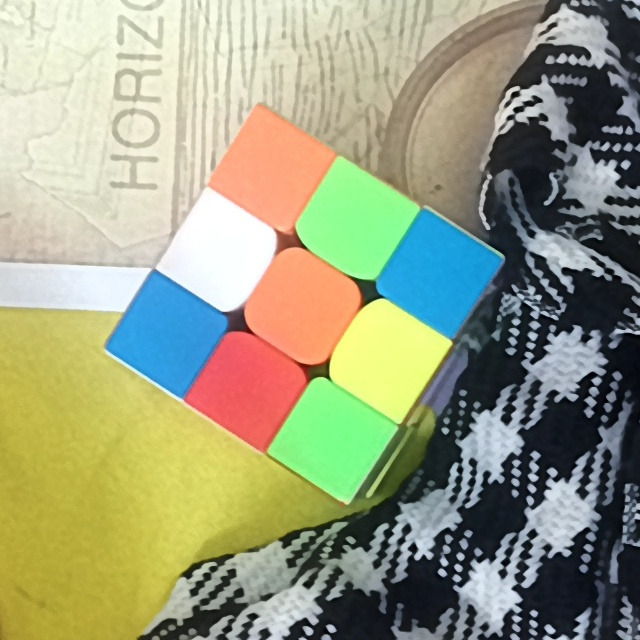tile: (297, 405, 372, 469), (404, 240, 474, 307), (320, 188, 391, 254), (267, 274, 338, 340), (213, 356, 286, 418), (238, 141, 308, 205), (185, 221, 253, 286), (137, 300, 204, 363), (354, 328, 419, 389)
